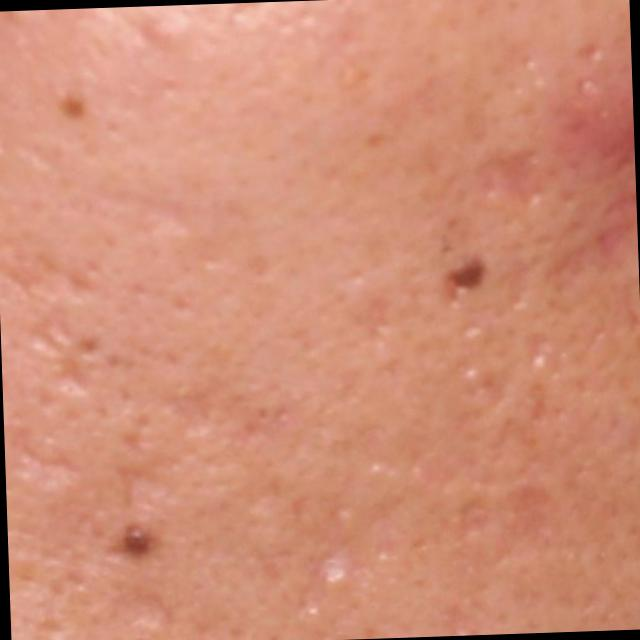blackhead: (447, 261, 486, 288), (122, 526, 150, 556)
